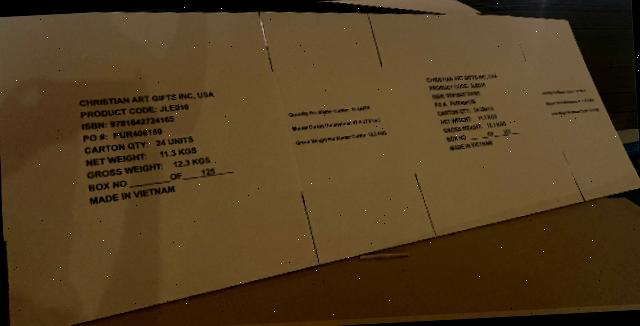box: (0, 11, 640, 326)
